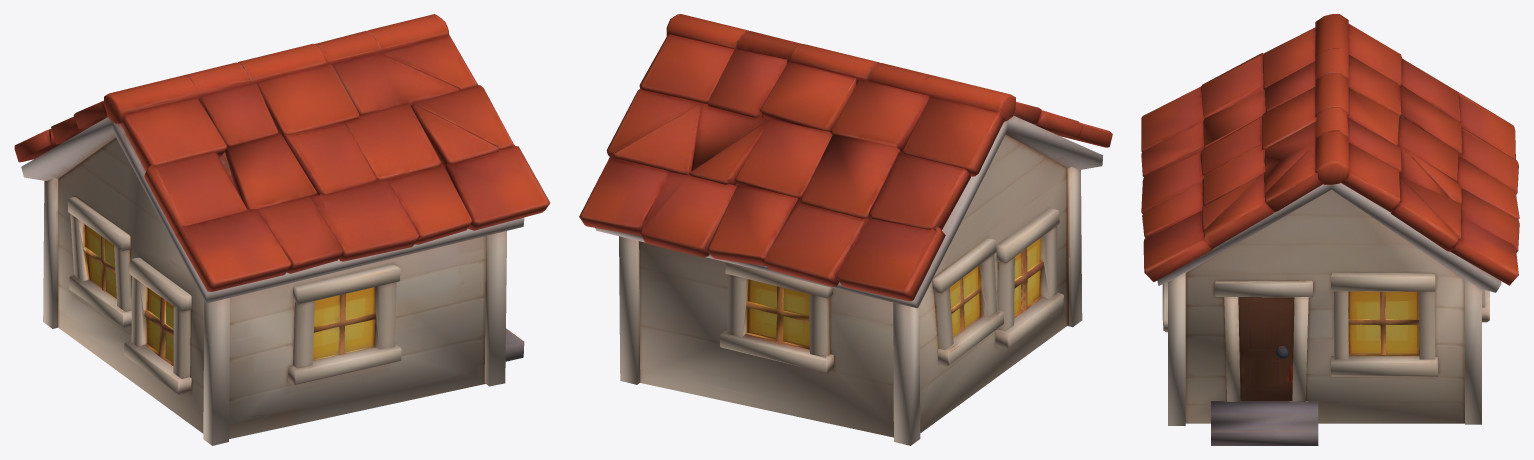
3 views of the same model, side by side, from view 1: azimuth 30°, elevation 25°; view 2: azimuth 150°, elevation 25°; view 3: azimuth 270°, elevation 25° (orthographic). The views are drawn at different scales.
Parts seen in each view (by area): view 1: tripo_node_76e46352-e400-4673-b23e-ea8058c9afac; view 2: tripo_node_76e46352-e400-4673-b23e-ea8058c9afac; view 3: tripo_node_76e46352-e400-4673-b23e-ea8058c9afac.
Boxes of the visible parts, x1,y1,x2,y2 form: tripo_node_76e46352-e400-4673-b23e-ea8058c9afac: [14, 14, 550, 445]; tripo_node_76e46352-e400-4673-b23e-ea8058c9afac: [579, 14, 1112, 445]; tripo_node_76e46352-e400-4673-b23e-ea8058c9afac: [1141, 14, 1519, 445].
Size of the model in its own units: 0.9863 by 0.8027 by 0.998.
Materials: 1 (1 with a texture image).
